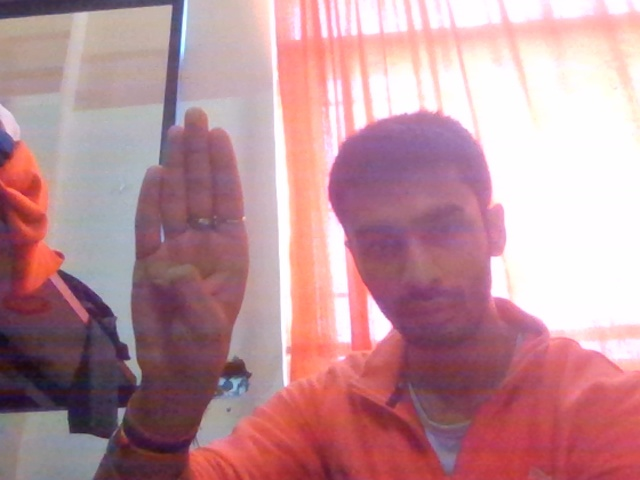B: (108, 87, 266, 461)
